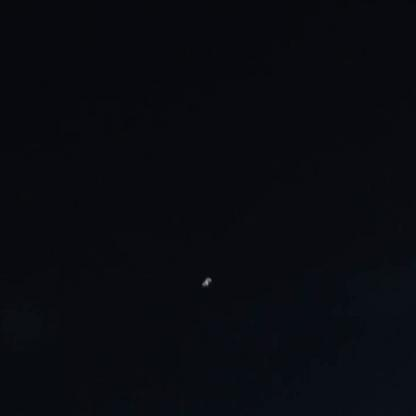ball: (198, 280, 210, 287), (204, 274, 214, 282)
